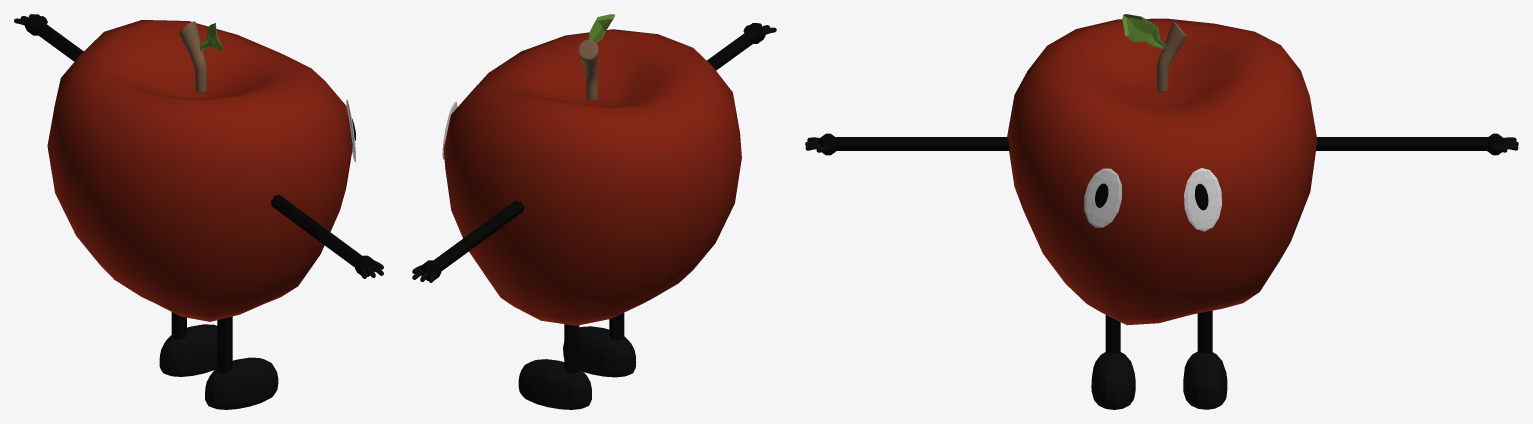
File: MANZANITA.fbx
3 renders of one model, left to right at view 1: azimuth 30°, elevation 25°; view 2: azimuth 150°, elevation 25°; view 3: azimuth 270°, elevation 25°, orthographic. The views are drawn at different scales.
Parts seen in each view (by area): view 1: Manzana.001, right foot, right foot.001, Sphere.009, Sphere.007, Sphere.008, Sphere.006, Hojita; view 2: Manzana.001, right foot.001, right foot, Sphere.008, Sphere.009, Sphere.006, Hojita, Sphere.007; view 3: Manzana.001, Sphere.009, Sphere.008, right foot.001, right foot, OjoDer, OjoIzq, Hojita, Sphere.006.
Boxes of the visible parts, x1,y1,x2,y2 form: Manzana.001: [47, 20, 352, 321]; right foot: [205, 357, 278, 409]; right foot.001: [159, 324, 217, 376]; Sphere.009: [271, 194, 362, 267]; Sphere.007: [217, 316, 232, 373]; Sphere.008: [33, 20, 83, 61]; Sphere.006: [171, 312, 186, 339]; Hojita: [200, 23, 223, 51]; Manzana.001: [443, 29, 741, 325]; right foot.001: [518, 359, 591, 409]; right foot: [563, 326, 636, 377]; Sphere.008: [433, 201, 524, 271]; Sphere.009: [707, 30, 757, 70]; Sphere.006: [564, 324, 579, 373]; Hojita: [588, 14, 614, 42]; Sphere.007: [609, 313, 624, 341]; Manzana.001: [1007, 18, 1317, 325]; Sphere.009: [835, 137, 1009, 150]; Sphere.008: [1316, 137, 1488, 150]; right foot.001: [1183, 351, 1227, 409]; right foot: [1091, 352, 1135, 409]; OjoDer: [1184, 168, 1221, 231]; OjoIzq: [1084, 168, 1121, 227]; Hojita: [1122, 14, 1166, 49]; Sphere.006: [1197, 310, 1212, 353].
Bounding box in the file's own units: 169 × 225 × 388.
8 materials, 1 textured.
